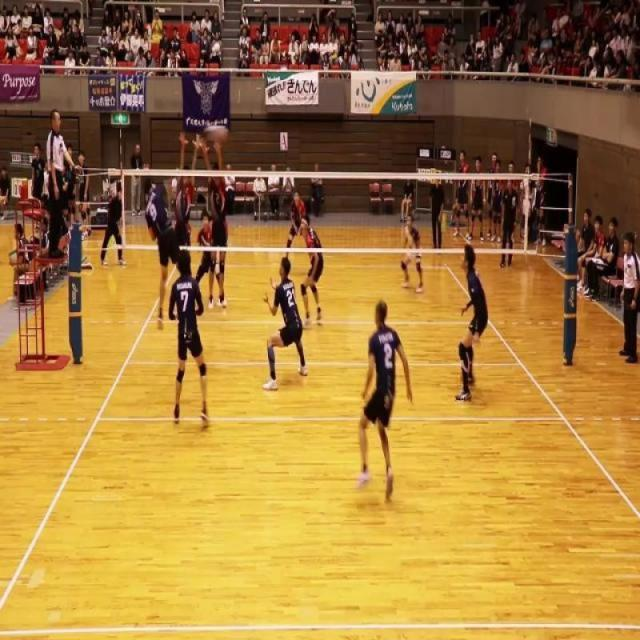volleyball: (203, 125, 230, 144)
